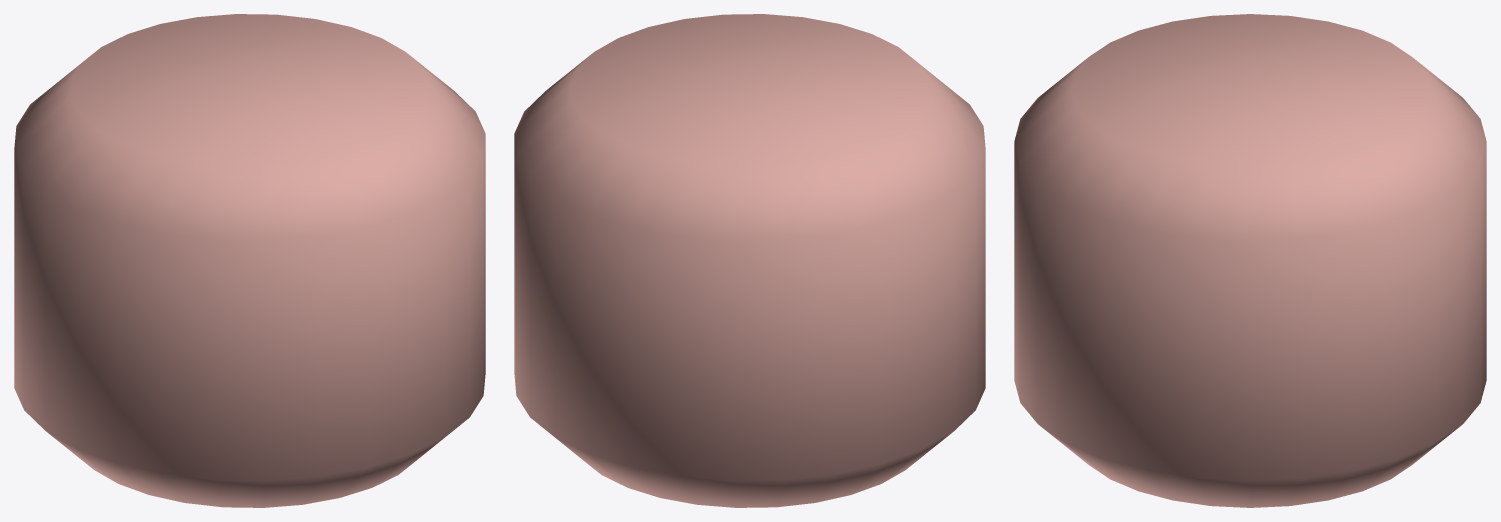
The model's file is i_pouf_4.glb.
The picture shows the model from 3 angles, left to right: view 1: azimuth 30°, elevation 25°; view 2: azimuth 150°, elevation 25°; view 3: azimuth 270°, elevation 25°; orthographic projection.
Parts seen in each view (by area): view 1: o; view 2: o; view 3: o.
Boxes of the visible parts, x1=… form: o: x1=14, y1=14, x2=485, y2=507; o: x1=514, y1=14, x2=985, y2=507; o: x1=1014, y1=14, x2=1486, y2=507.
Bounding box in the file's own units: 0.5 × 0.4 × 0.5.
